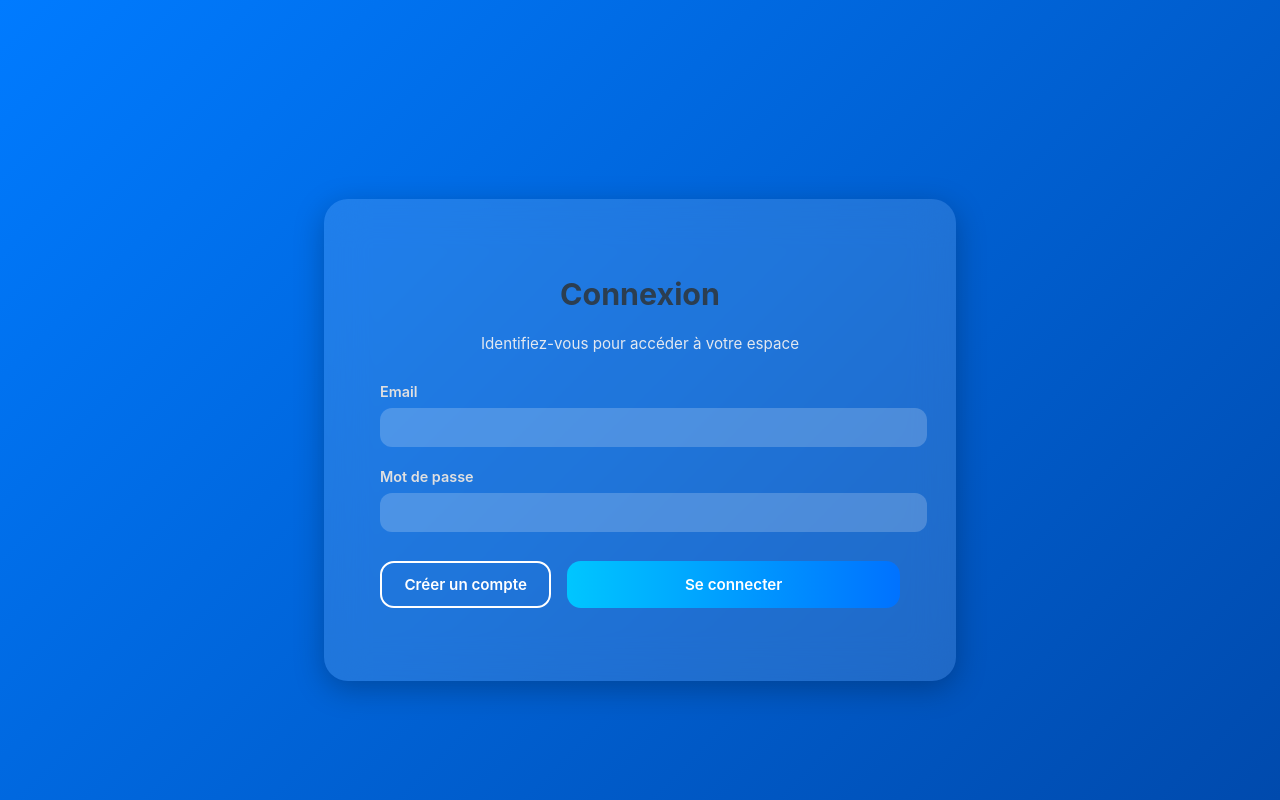
Login page › désactive le bouton pendant la connexion
Type "test@test.com" into the field labelled "Email" at (654, 427), box [380, 408, 927, 447]
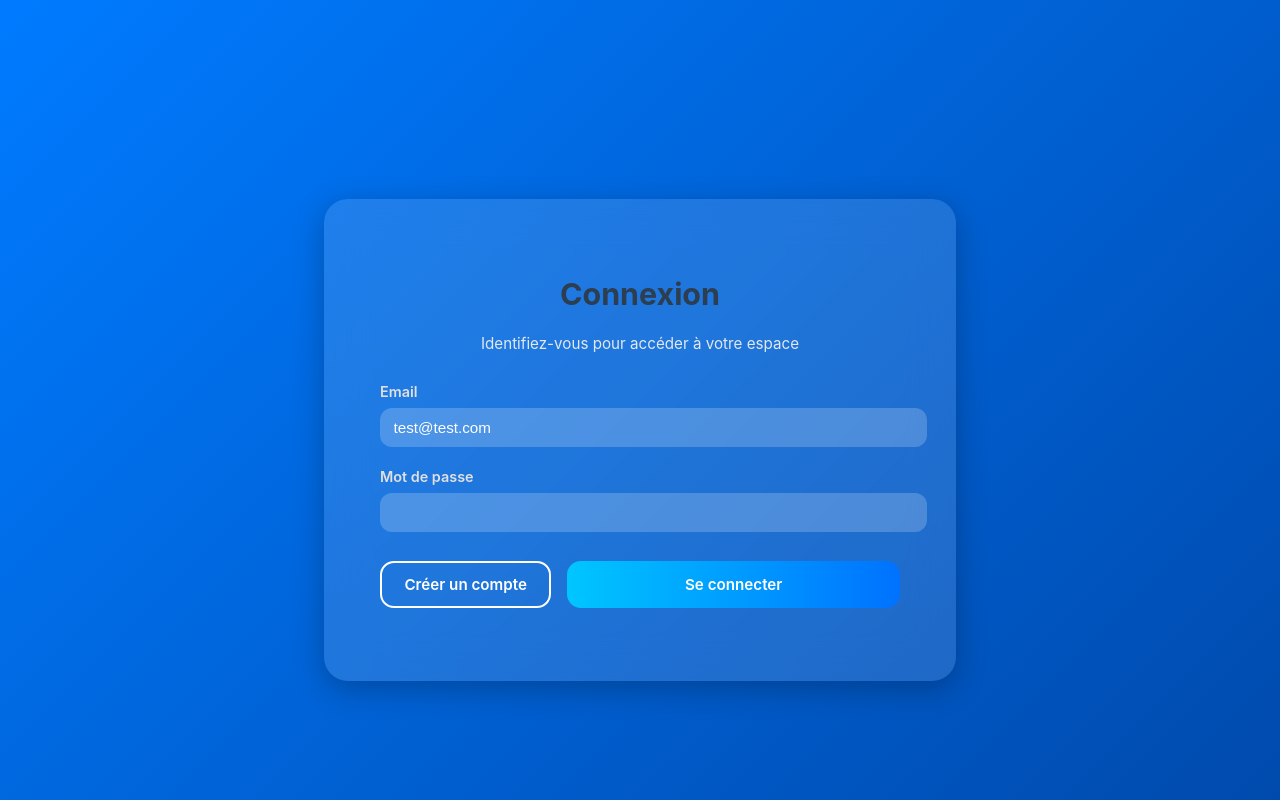
Type "123456" into the password field labelled "Mot de passe" at (654, 512), box [380, 492, 927, 532]
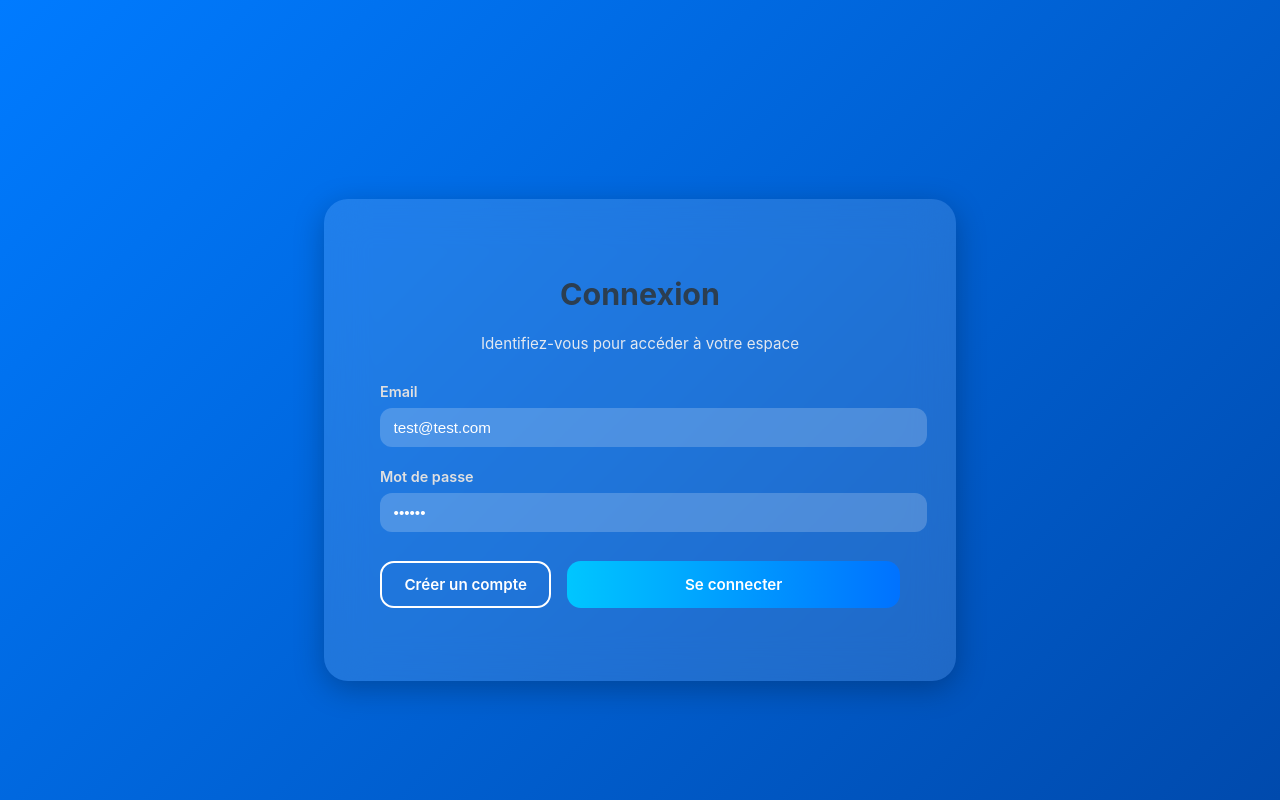
Click the button "Se connecter" at (734, 584), box [567, 561, 900, 608]
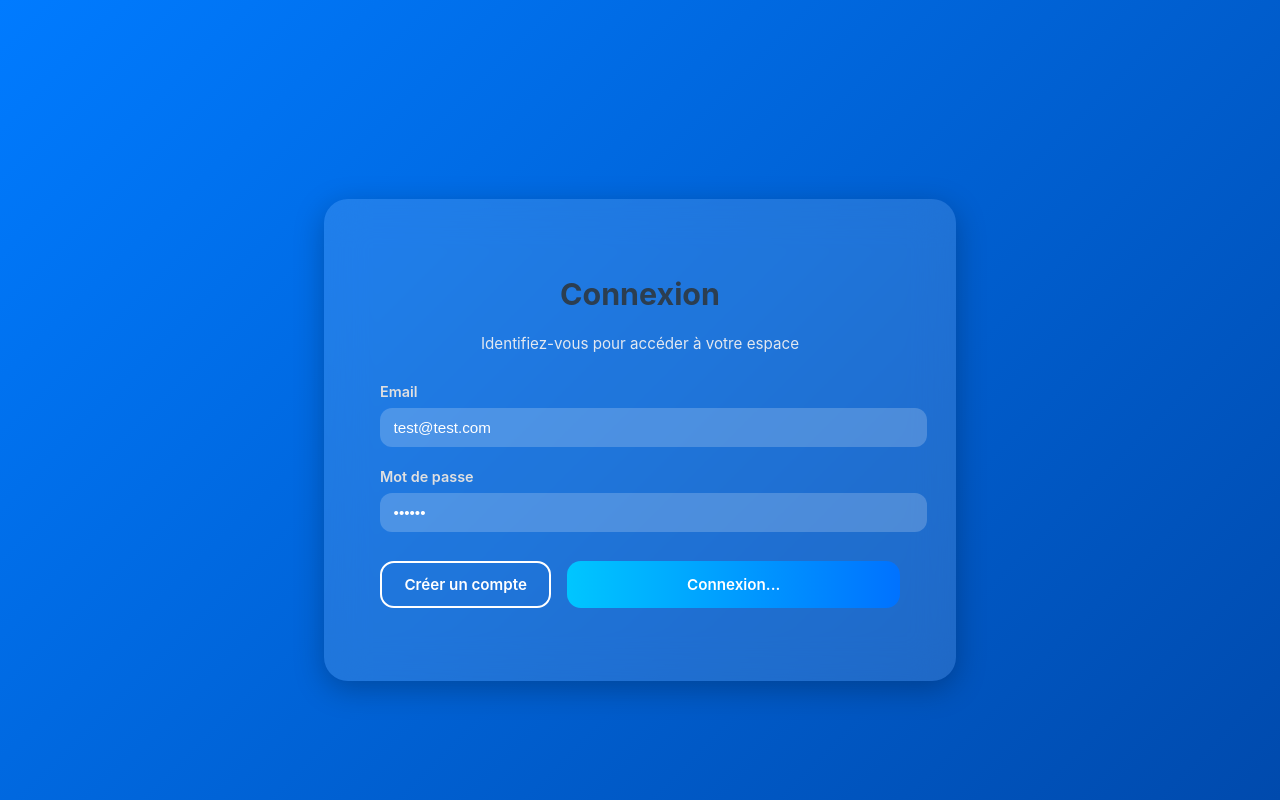
Now the button "Connexion..." is disabled, box [567, 561, 900, 608]
